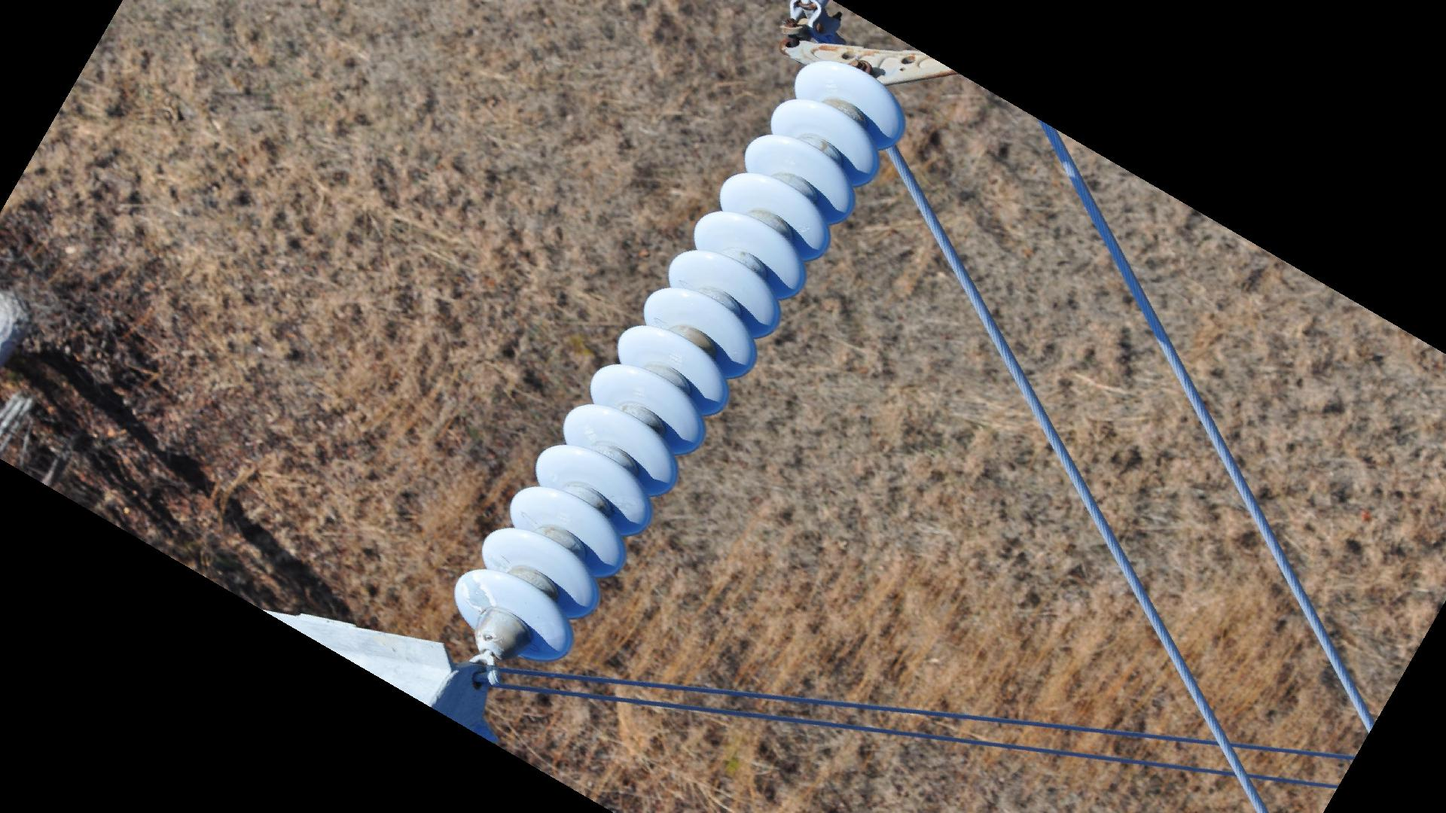insulator: (449, 55, 914, 666)
insulator_flashover: (459, 571, 498, 614)
